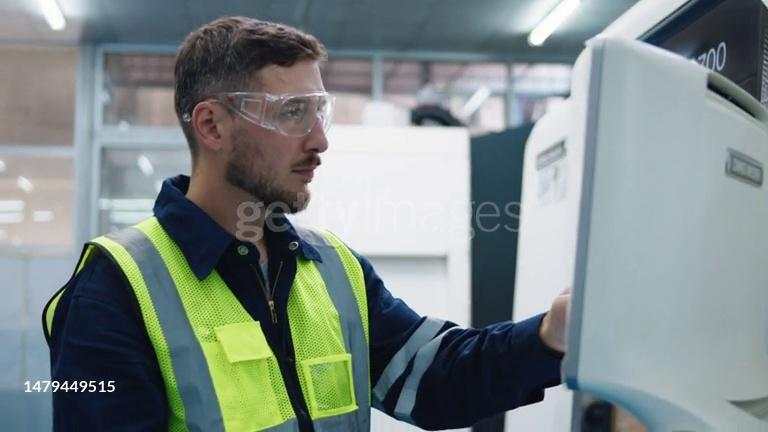person: (47, 17, 575, 432)
